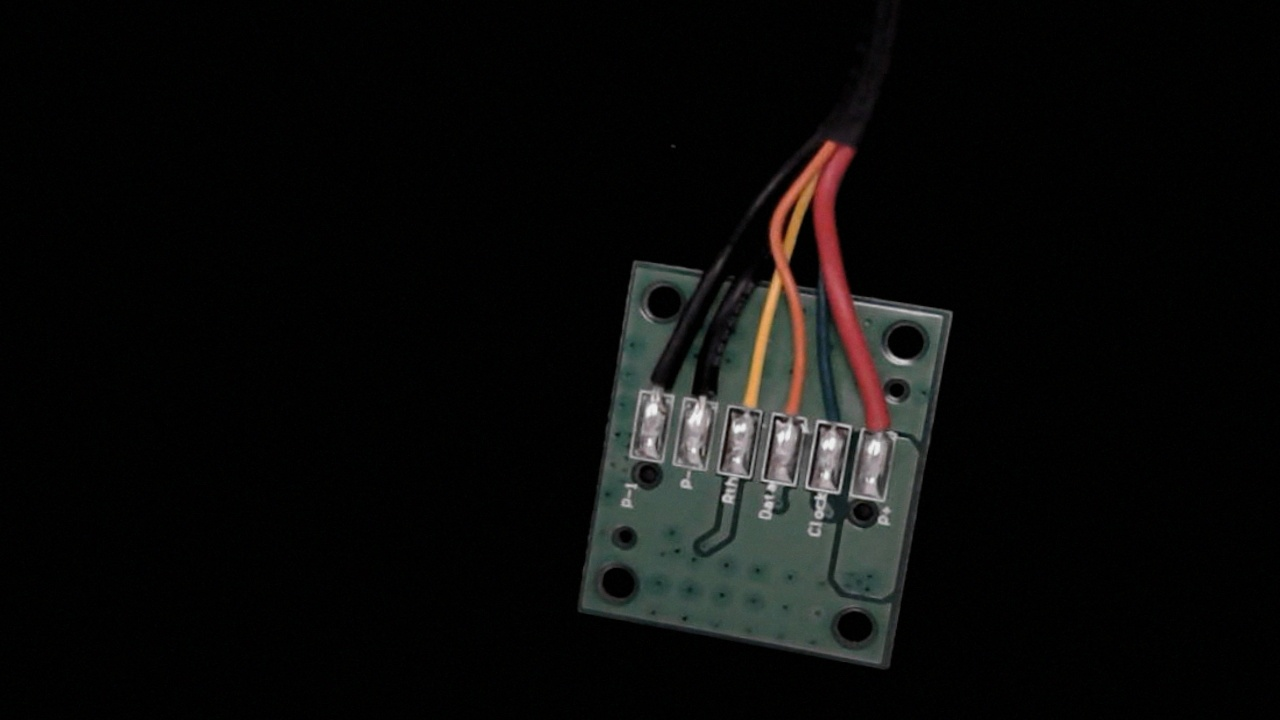Black: (676, 342, 727, 428)
Black1: (631, 338, 681, 417)
Green: (811, 377, 858, 448)
Orange: (766, 355, 816, 440)
Red: (855, 372, 907, 455)
Yellow: (724, 347, 777, 434)
